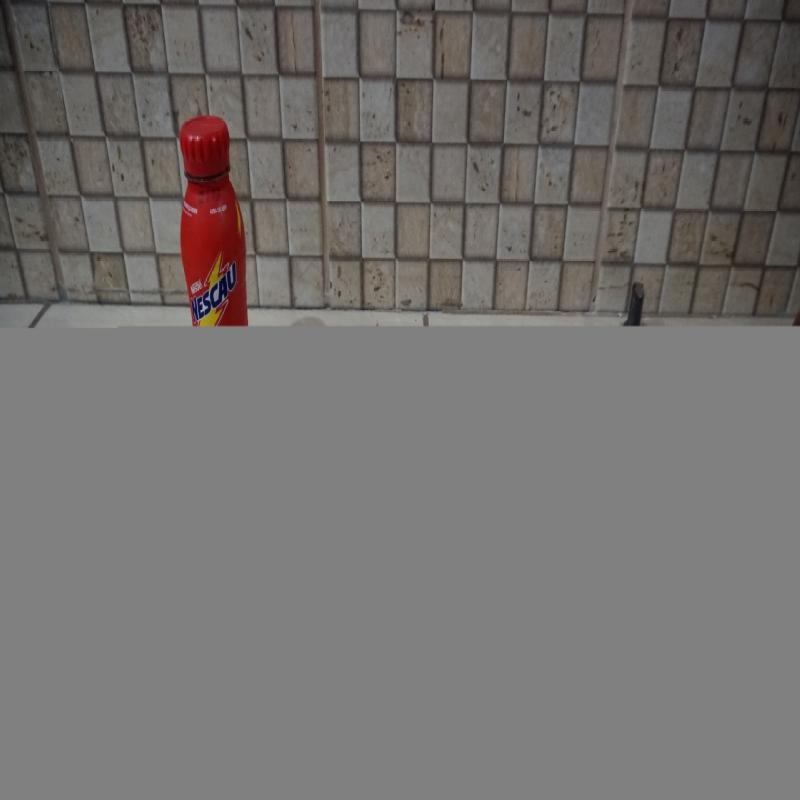Chocolate Milk: (169, 105, 253, 323)
